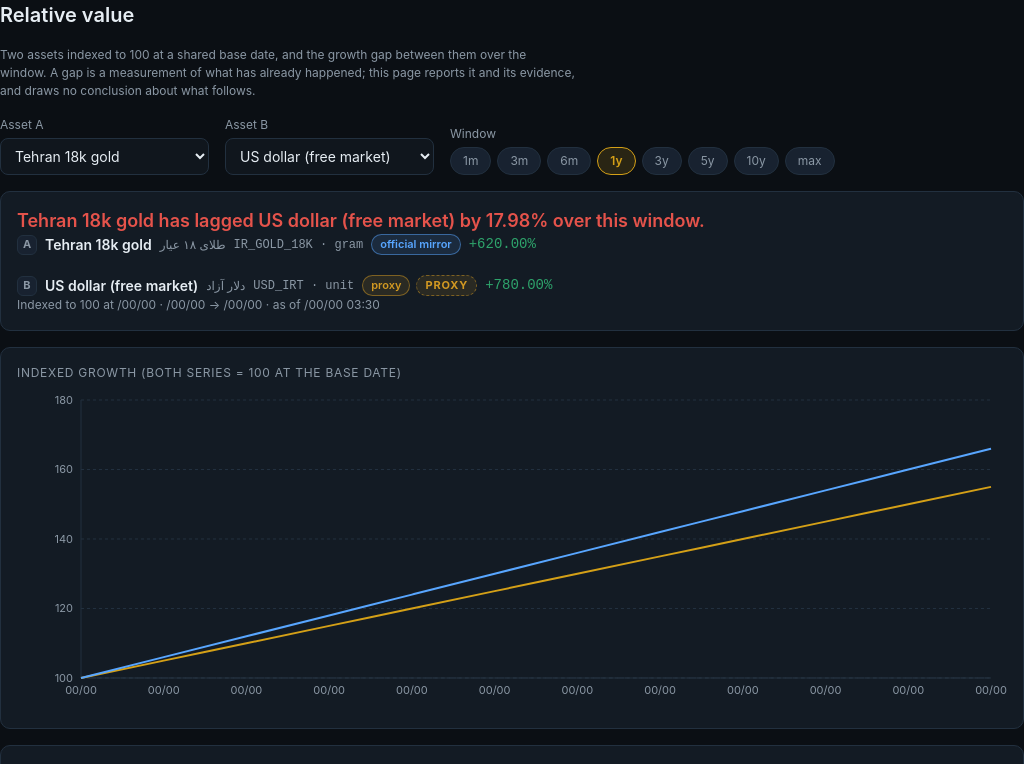
RelativeValue — selectors › asks for two different assets instead of comparing a pair with itself
The image size is (1024, 764).
Expected: the text with test id "rv-headline" is shown, [17,210,705,231]
Select "Tehran 18k gold" in the dropdown labelled "Asset B": (330, 156) [225,138,434,175]
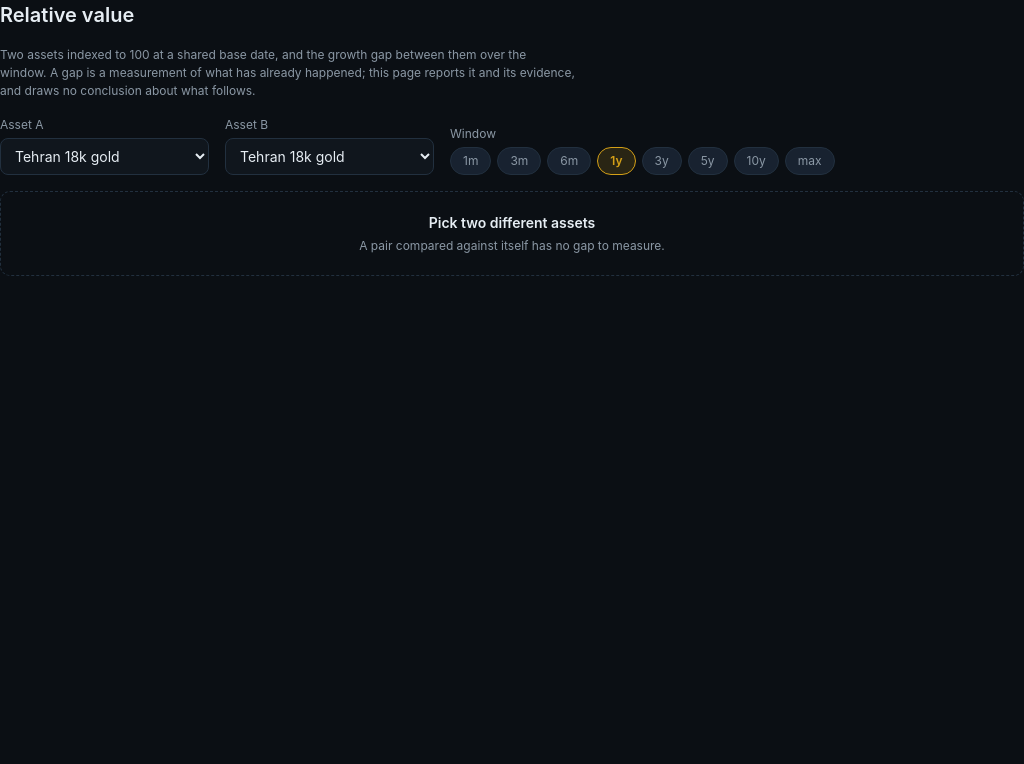
Expected: the text "Pick two different assets" is shown, [429,214,595,231]
